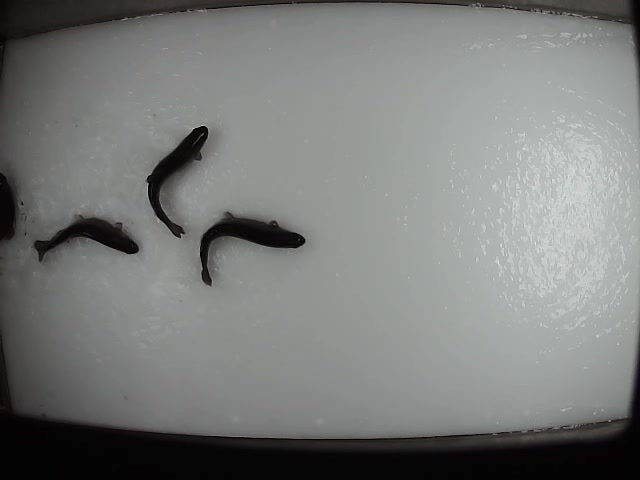Fish: (199, 211, 306, 287), (146, 126, 208, 238), (35, 215, 139, 262)
